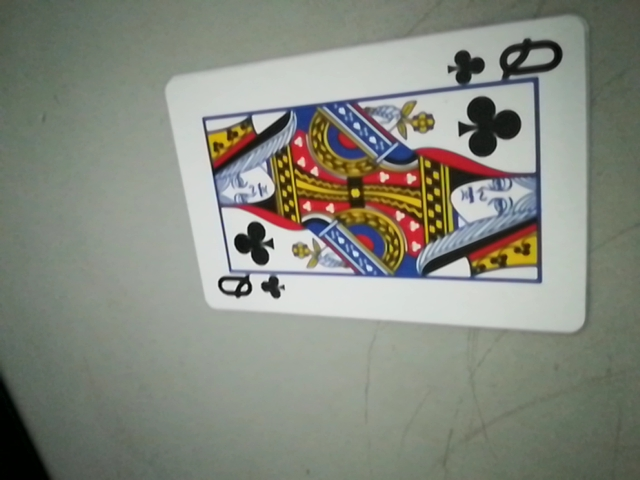mh q: (446, 33, 564, 88), (210, 266, 287, 310)
